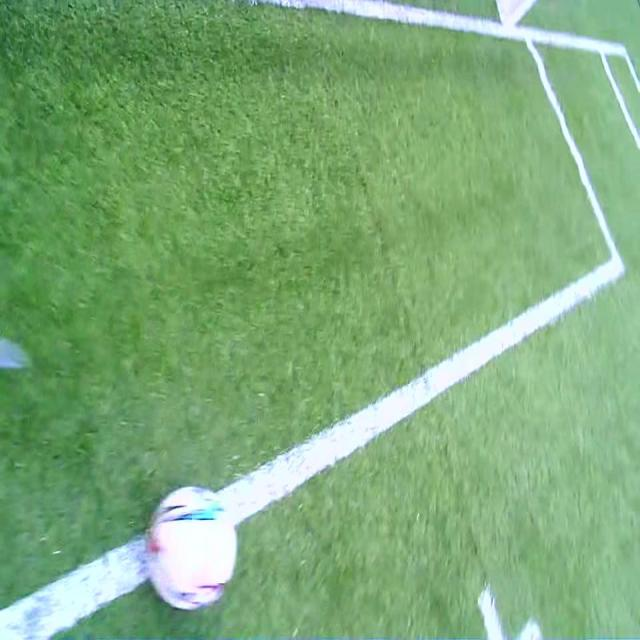ball: (146, 486, 238, 612)
